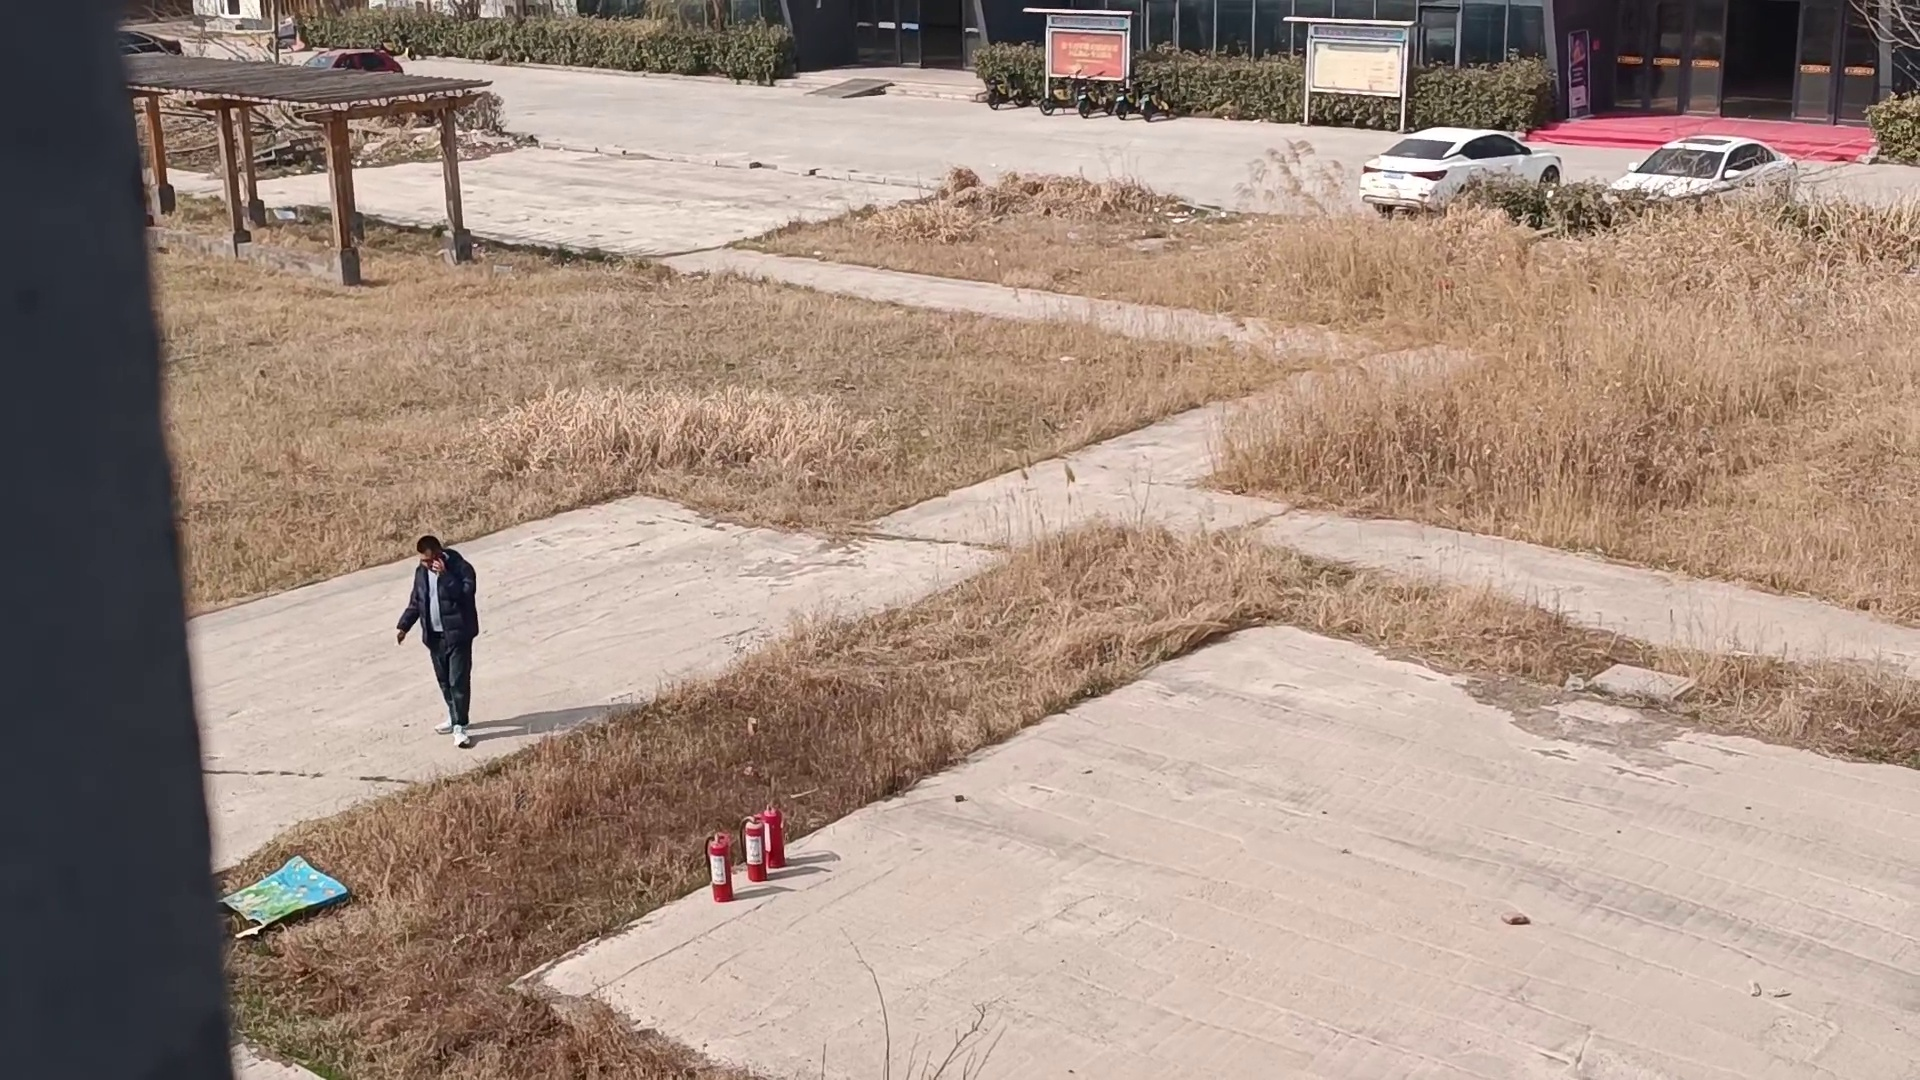phone: (407, 527, 451, 578)
